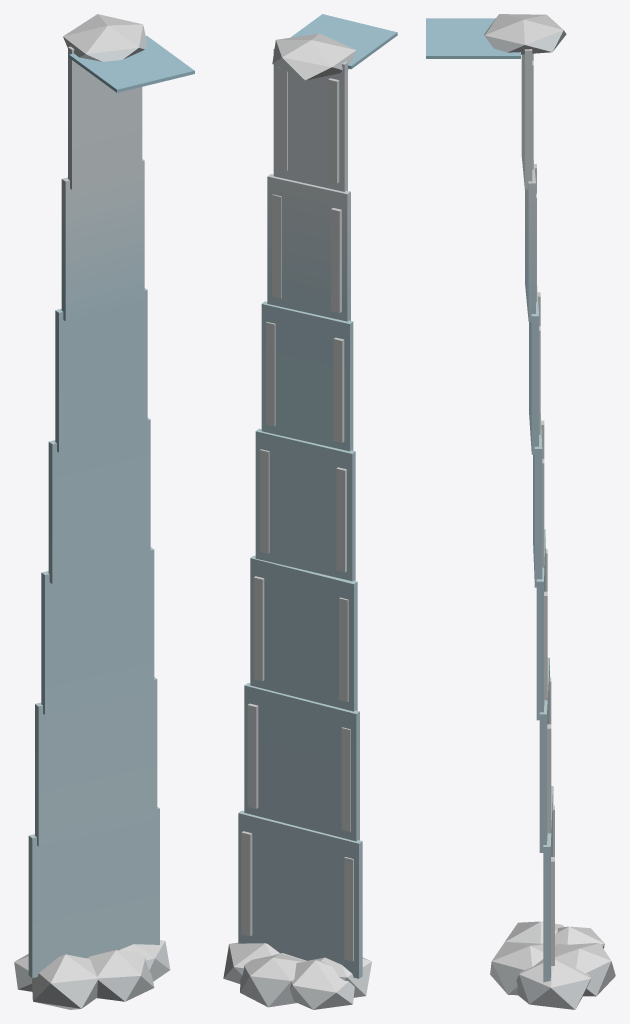
Rendered from iv_waterfall.glb.
3 renders of one model, left to right at view 1: azimuth 30°, elevation 25°; view 2: azimuth 150°, elevation 25°; view 3: azimuth 270°, elevation 25°, orthographic. The views are drawn at different scales.
Parts seen in each view (by area): view 1: iv_waterfall; view 2: iv_waterfall; view 3: iv_waterfall.
Part boxes in pixels (x1,y1,x2,y2): iv_waterfall: [14, 14, 194, 1009]; iv_waterfall: [223, 14, 397, 1009]; iv_waterfall: [426, 14, 615, 1009].
Size of the model in its own units: 5.32 by 36.19 by 6.4.
